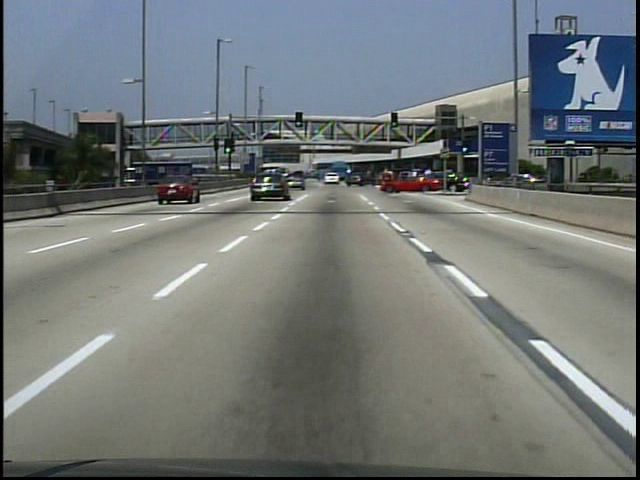person: (231, 131, 238, 144)
